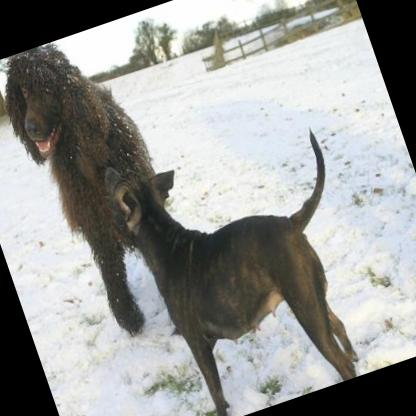Irish_water_spaniel: (0, 23, 205, 352)
